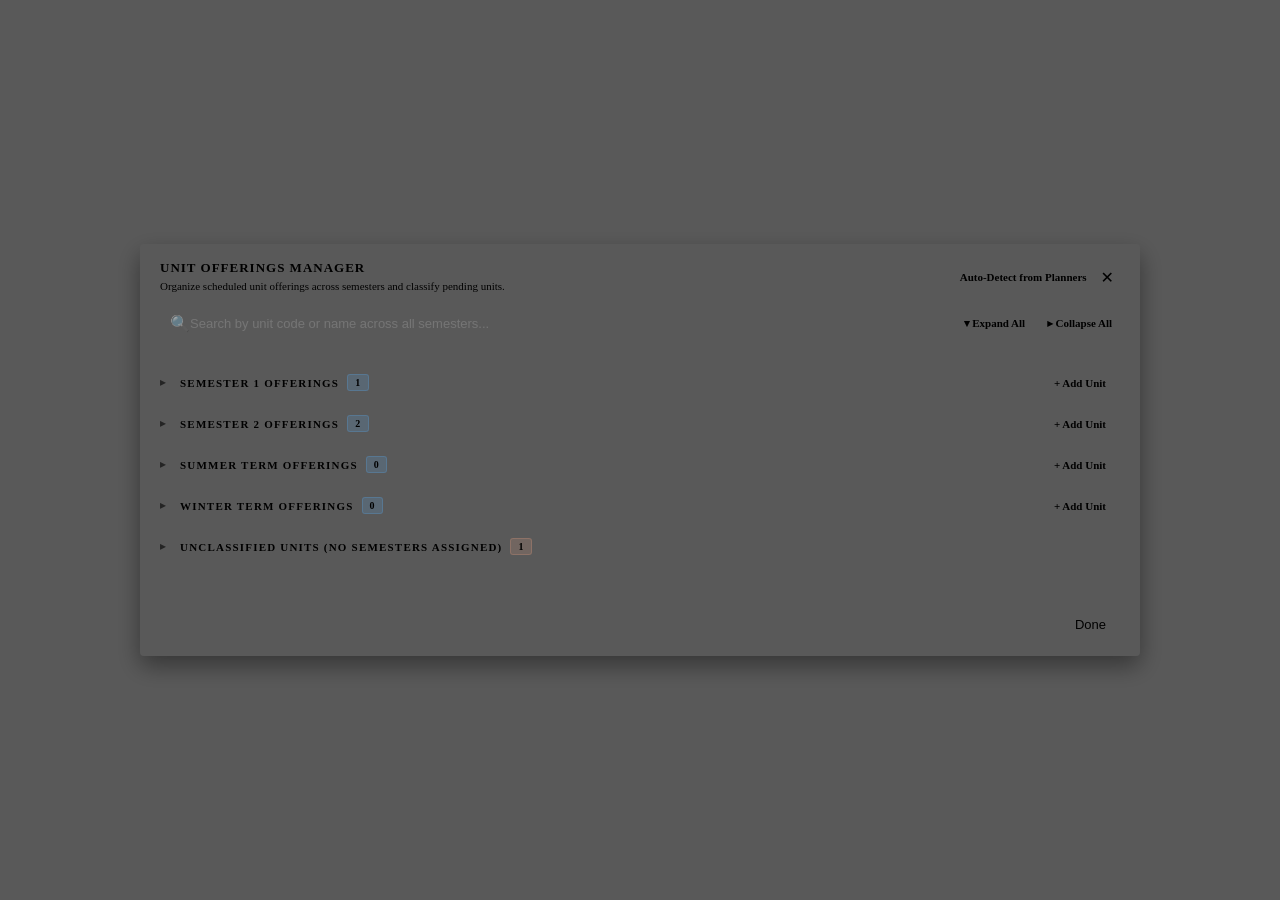
UnitOfferingsModal › searching shows matches even though the sections are closed
The image size is (1280, 900).
Type "swe20001" into the search field with placeholder "Search by unit code or name across all semesters..." at (553, 323), box [160, 306, 946, 340]
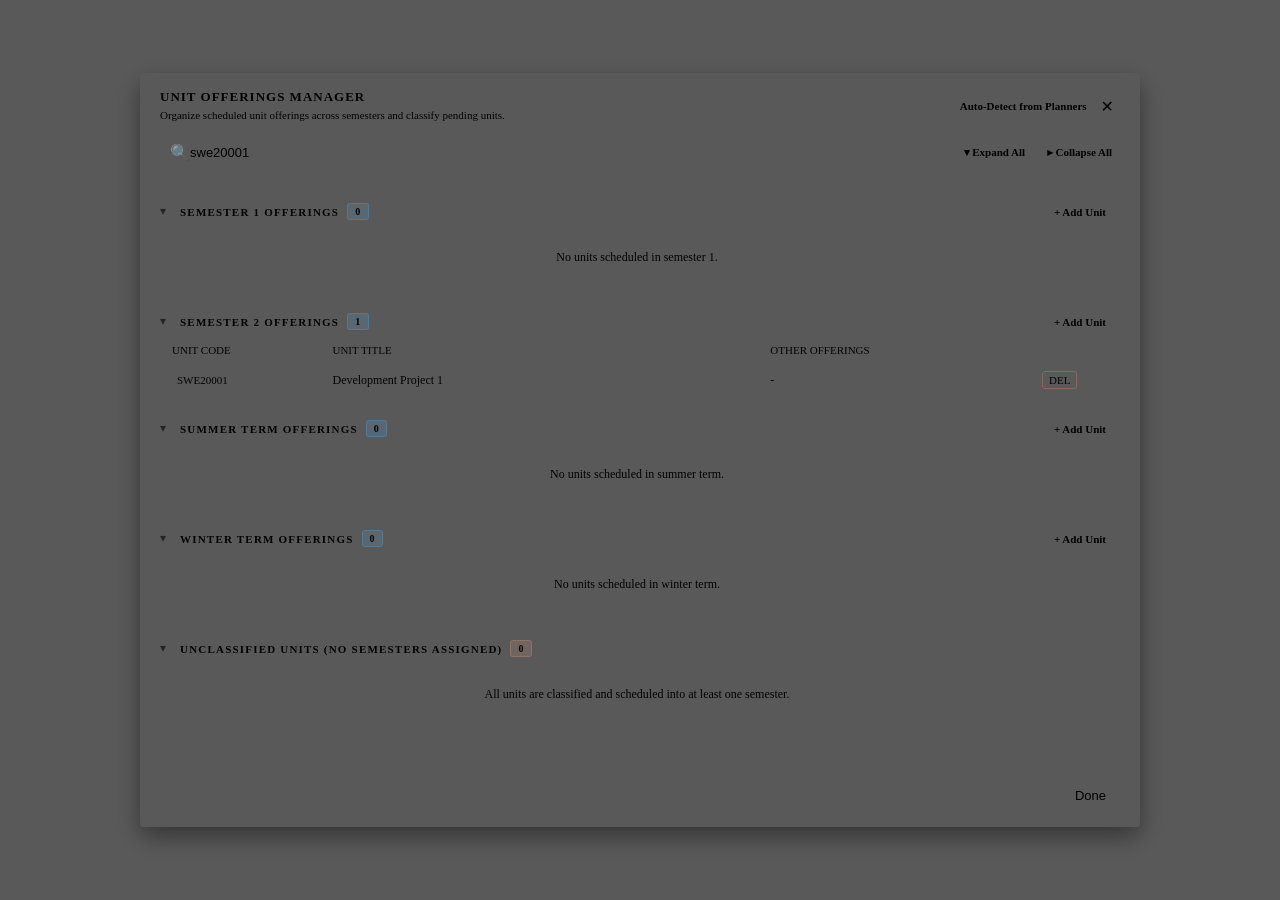
Check: the text "SWE20001" is shown, box [177, 374, 228, 386]
